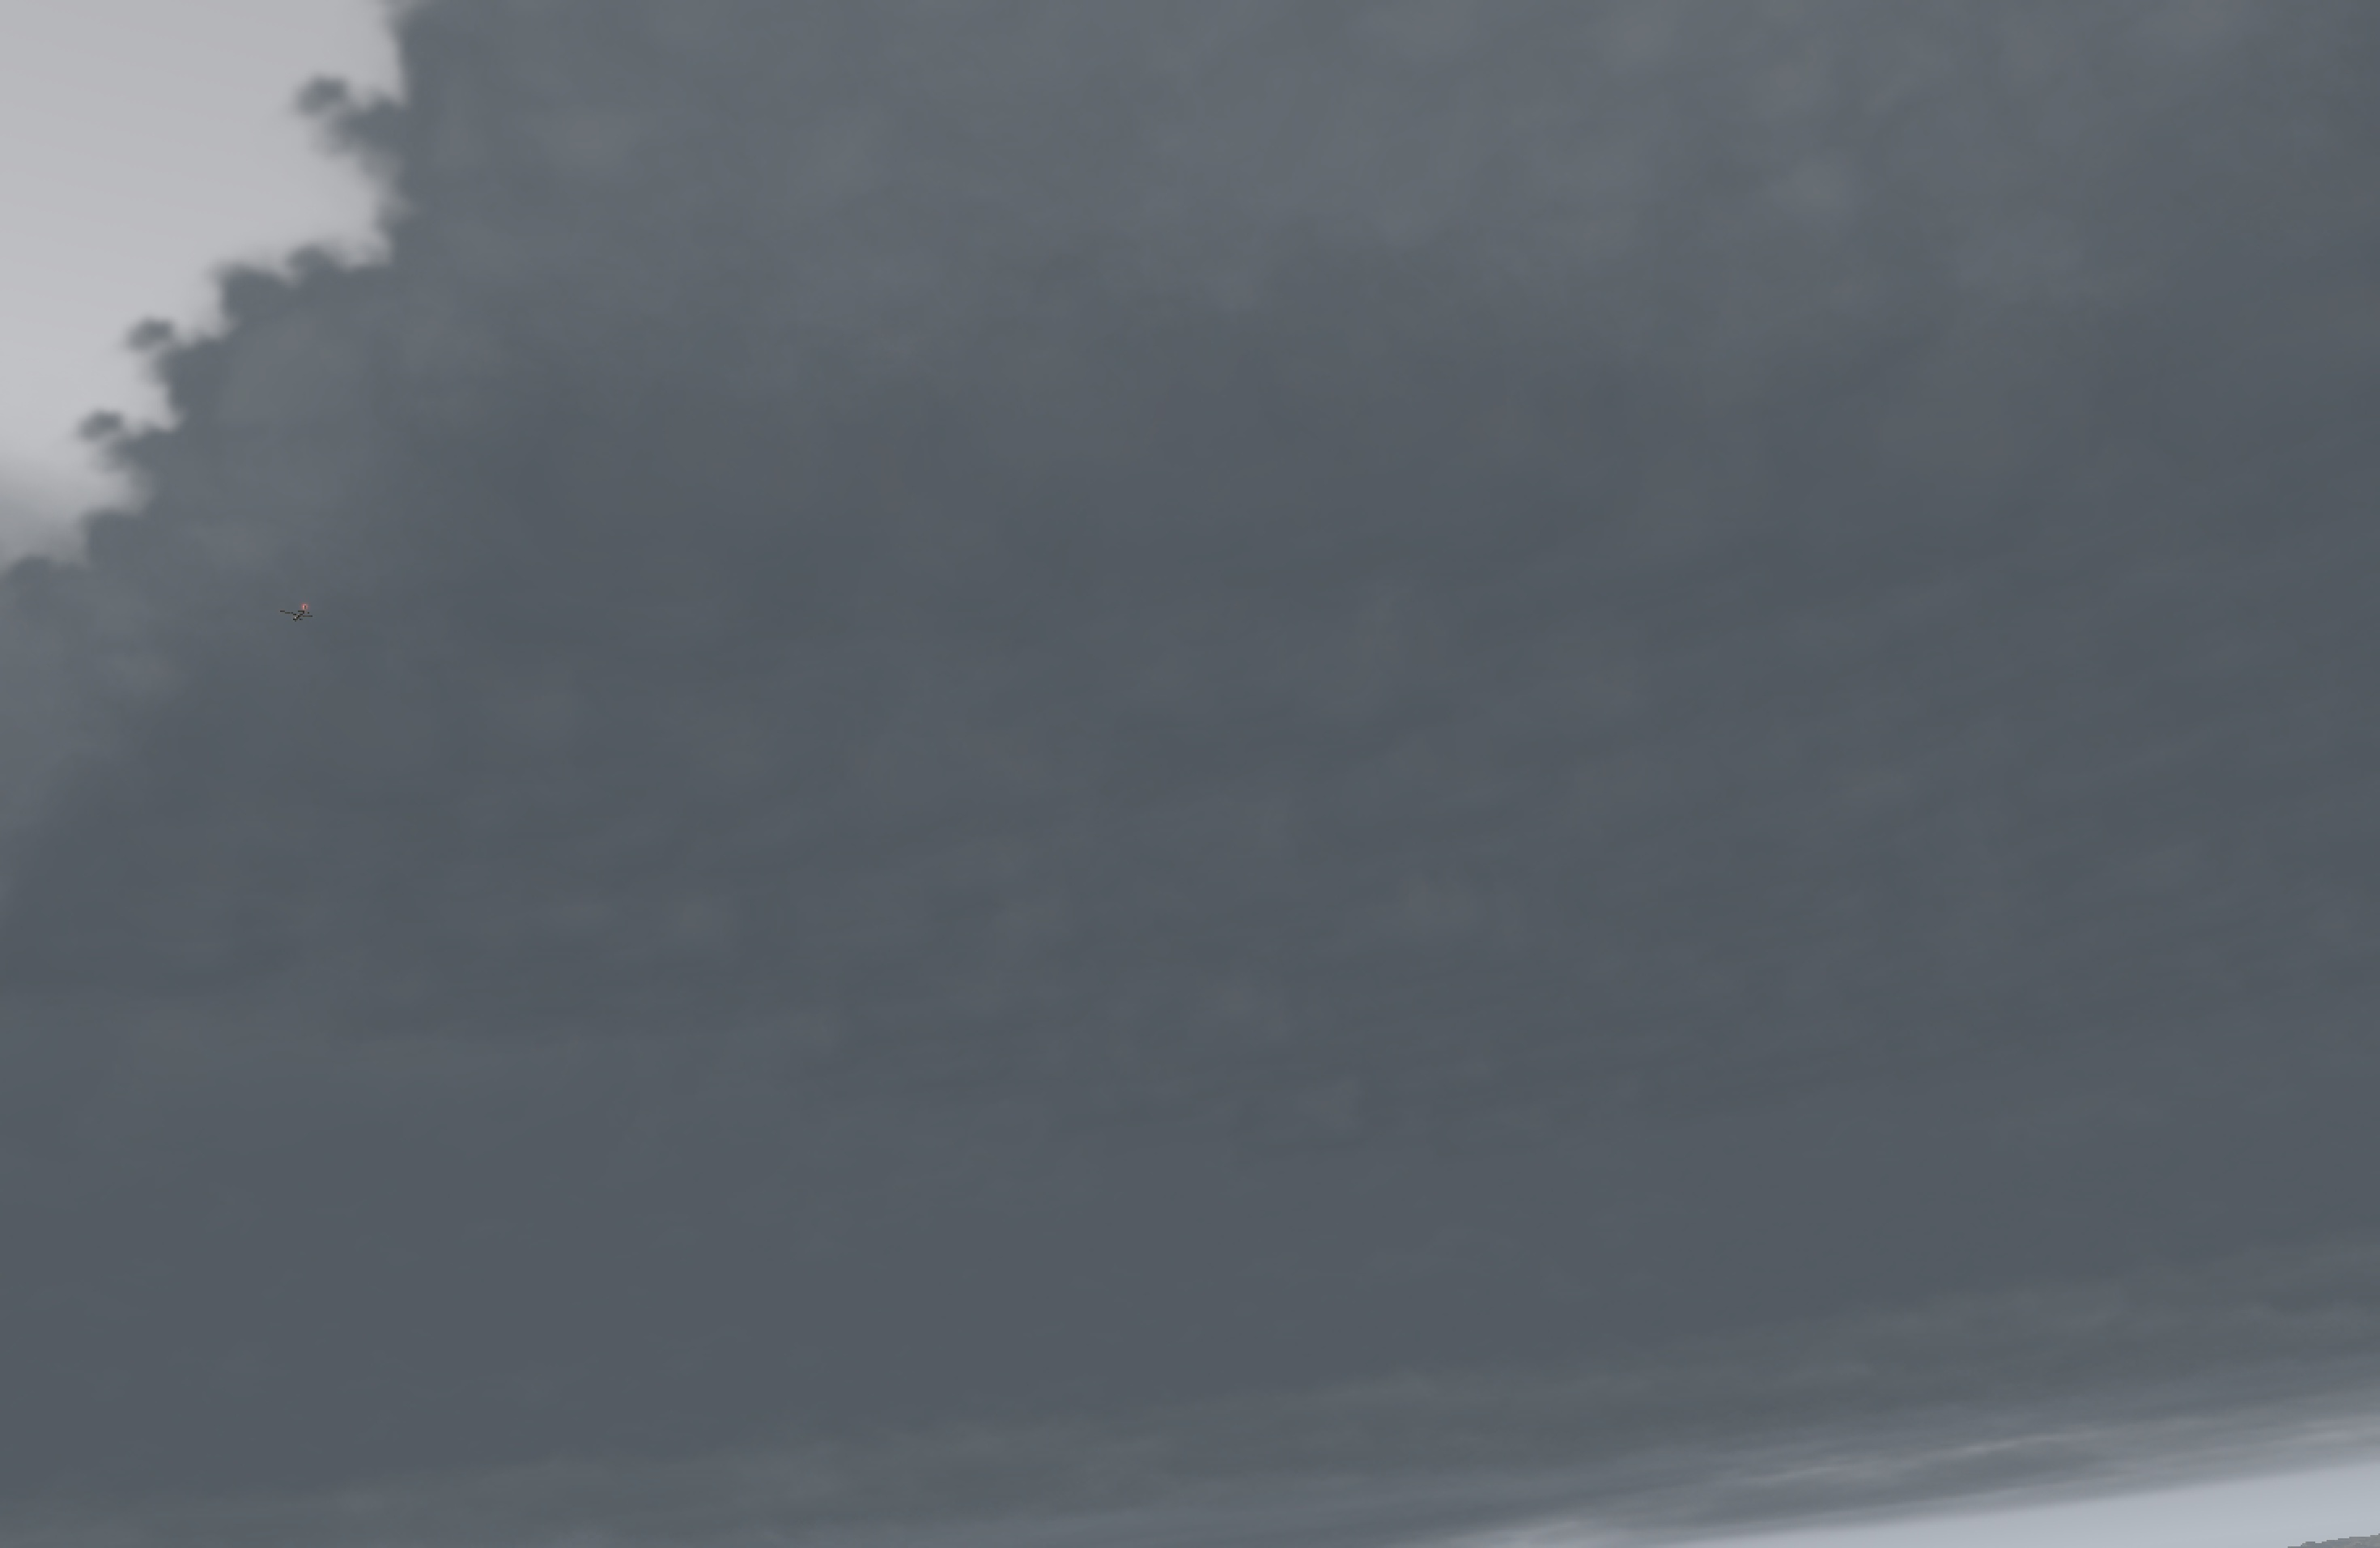aircraft: (286, 613, 309, 621)
